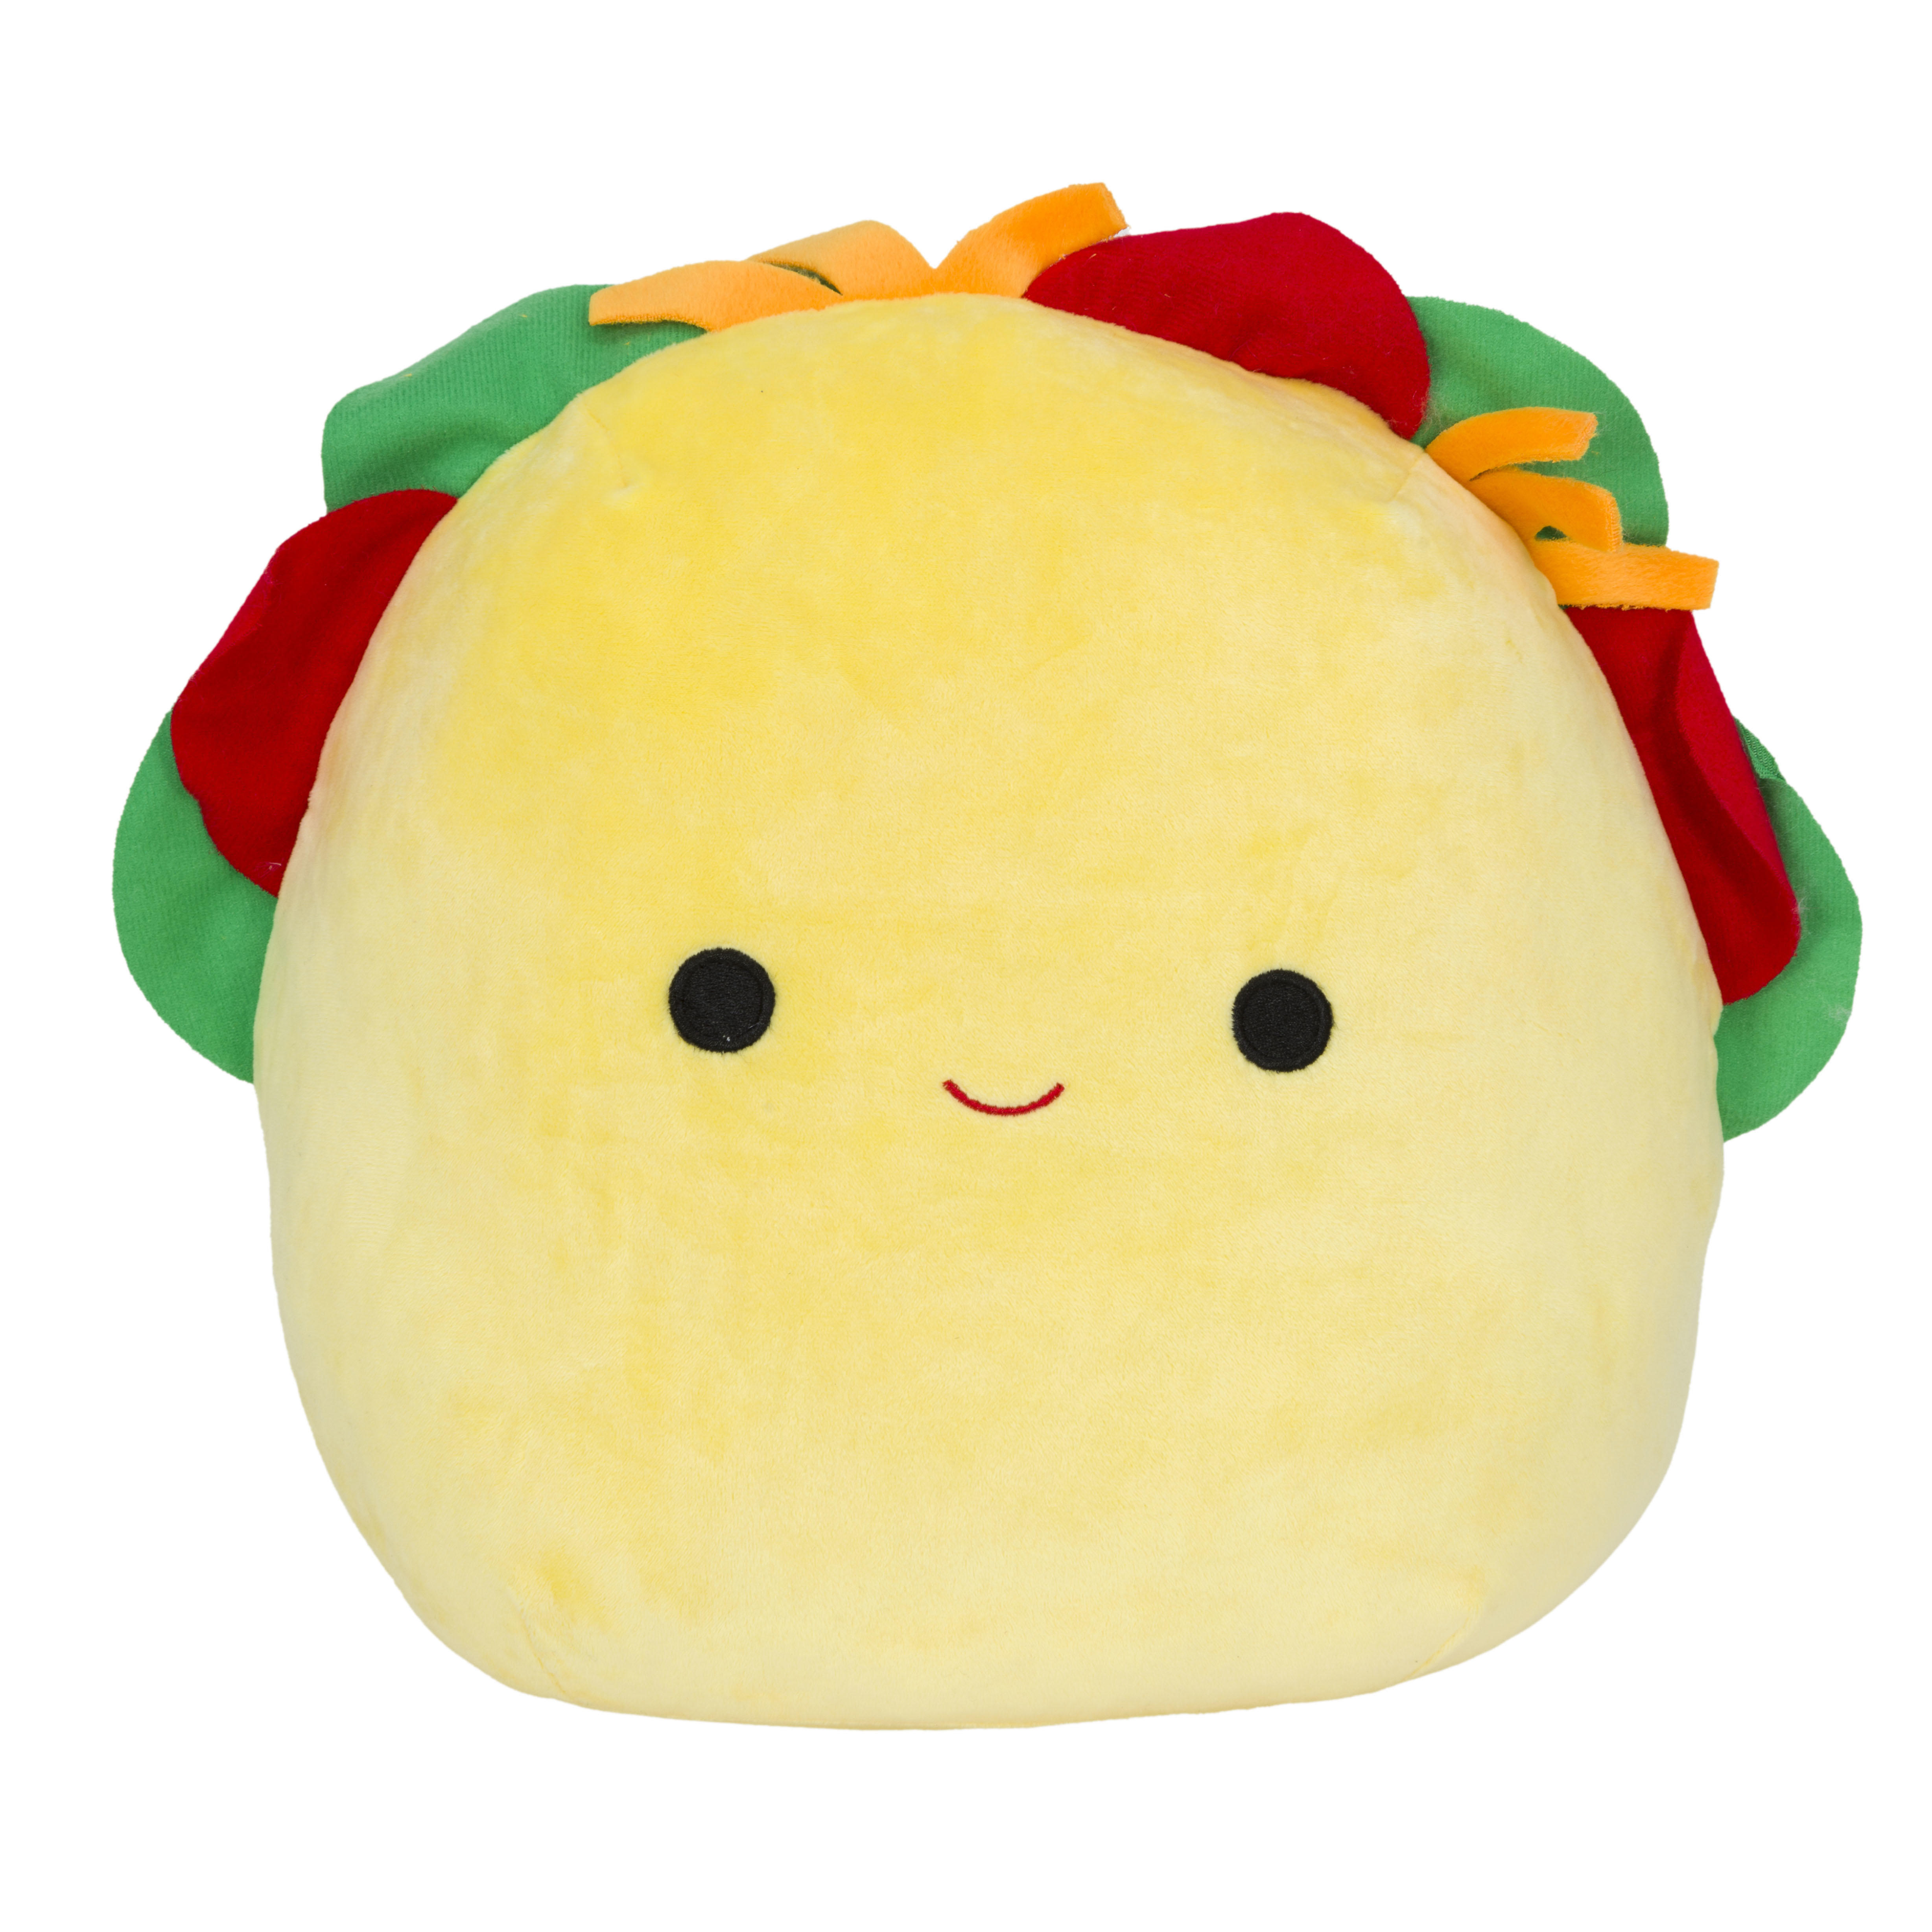toy: (71, 78, 1838, 1727)
